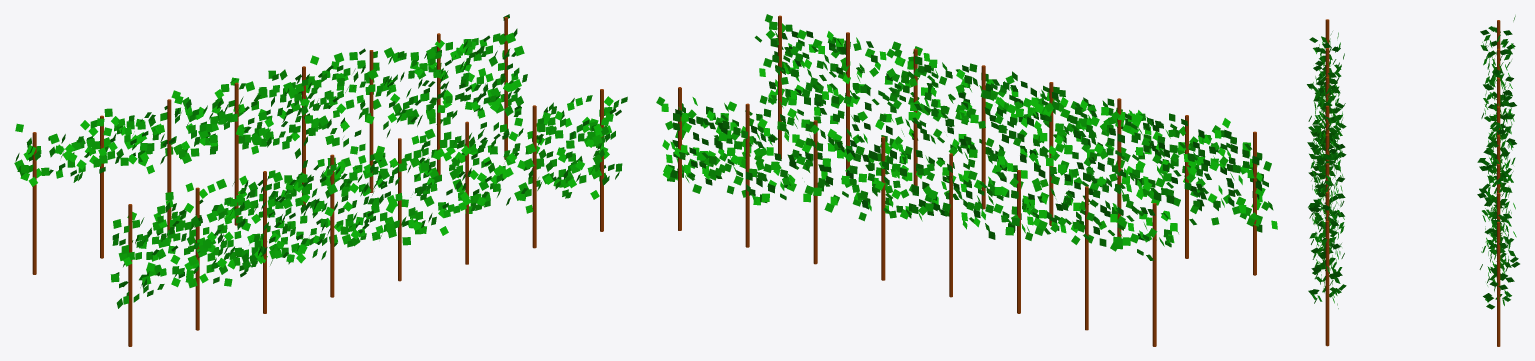
File: cornaredo_vine_2_rows.dae
3 renders of one model, left to right at view 1: azimuth 30°, elevation 25°; view 2: azimuth 150°, elevation 25°; view 3: azimuth 270°, elevation 25°, orthographic. The views are drawn at different scales.
Visible parts, largest first — view 1: vine_2, vine_1, sticks_2, sticks_1; view 2: vine_2, vine_1, sticks_1, sticks_2; view 3: vine_2, vine_1, sticks_2, sticks_1.
Part boxes in pixels (x1=…): vine_2: x1=110, y1=95, x2=627, y2=308; vine_1: x1=14, y1=14, x2=527, y2=186; sticks_2: x1=128, y1=89, x2=603, y2=346; sticks_1: x1=32, y1=17, x2=507, y2=274; vine_2: x1=754, y1=14, x2=1277, y2=232; vine_1: x1=656, y1=96, x2=1178, y2=260; sticks_1: x1=678, y1=87, x2=1156, y2=346; sticks_2: x1=778, y1=15, x2=1256, y2=275; vine_2: x1=1307, y1=31, x2=1346, y2=308; vine_1: x1=1477, y1=15, x2=1519, y2=309; sticks_2: x1=1325, y1=19, x2=1329, y2=346; sticks_1: x1=1497, y1=20, x2=1500, y2=346.
Bounding box in the file's own units: 7.56 × 3.13 × 2.05.
